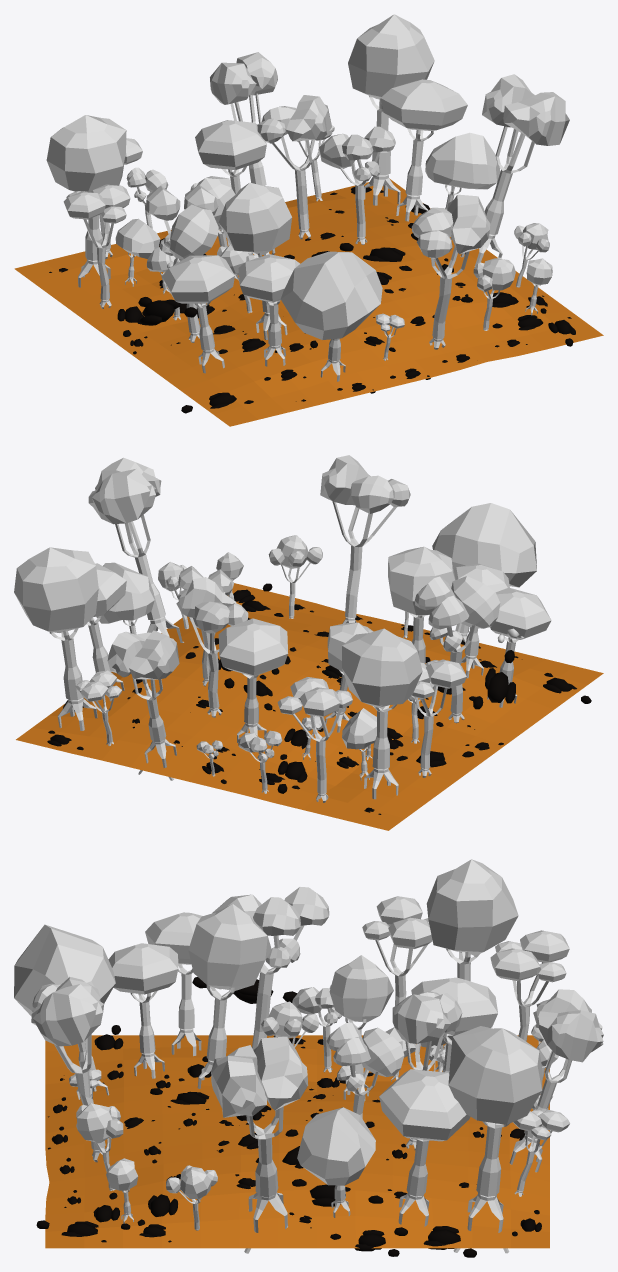
The model's file is Forest4.fbx.
3 renders of one model, top to bottom at view 1: azimuth 30°, elevation 25°; view 2: azimuth 150°, elevation 25°; view 3: azimuth 270°, elevation 25°, orthographic. The views are drawn at different scales.
Parts seen in each view (by area): view 1: Mountain008, Tree338, Tree343, Tree340, Tree345, Tree10_058, Tree342, Tree336, Tree2_148, Tree10_057, Tree330, Tree341 (+16 smaller); view 2: Mountain008, Tree343, Tree345, Tree338, Tree340, Tree10_058, Tree2_148, Tree344, Tree333, Tree336, Tree10_057, Tree12_118 (+15 smaller); view 3: Mountain008, Tree343, Tree340, Tree345, Tree336, Tree342, Tree338, Tree2_148, Tree10_058, Tree341, Tree344, Tree337 (+19 smaller).
Boxes of the visible parts, x1,y1,x2,y2 form: Mountain008: (14, 179, 603, 426); Tree338: (280, 251, 382, 381); Tree343: (348, 14, 434, 205); Tree340: (460, 74, 569, 266); Tree345: (46, 115, 126, 287); Tree10_058: (411, 194, 490, 349); Tree342: (380, 79, 467, 221); Tree336: (218, 182, 292, 339); Tree2_148: (146, 184, 218, 342); Tree10_057: (257, 95, 331, 239); Tree330: (162, 255, 234, 373); Tree341: (425, 132, 500, 239); Mountain008: (16, 583, 603, 830); Tree343: (14, 547, 98, 730); Tree345: (342, 628, 422, 799); Tree338: (432, 503, 536, 643); Tree340: (88, 457, 183, 642); Tree10_058: (320, 455, 410, 623); Tree2_148: (414, 576, 500, 723); Tree344: (107, 630, 179, 780); Tree333: (218, 618, 288, 742); Tree336: (388, 546, 455, 663); Tree10_057: (176, 577, 248, 717); Tree12_118: (277, 677, 352, 802); Mountain008: (45, 1035, 549, 1248); Tree343: (448, 1026, 542, 1253); Tree340: (211, 1036, 308, 1253); Tree345: (426, 859, 518, 1048); Tree336: (188, 904, 271, 1088); Tree342: (379, 1069, 470, 1226); Tree338: (14, 924, 115, 1102); Tree2_148: (212, 887, 329, 1049); Tree10_058: (31, 977, 105, 1162); Tree341: (297, 1107, 375, 1217); Tree344: (509, 989, 603, 1172); Tree337: (108, 943, 178, 1078).
Size of the model in its own units: 1089 by 468 by 1084.
